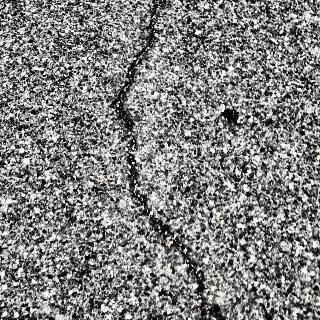crack: (106, 1, 220, 320)
